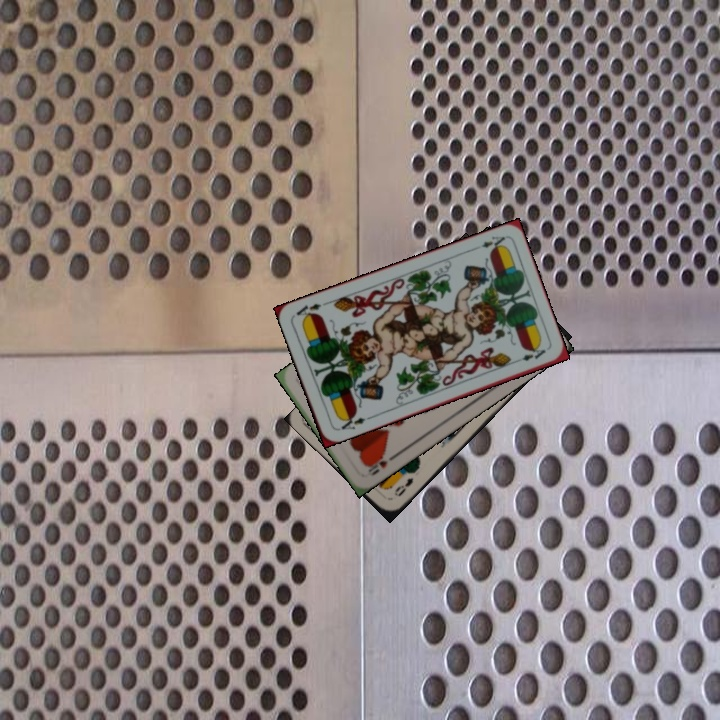EA: (469, 232, 508, 253), (334, 410, 368, 433)
EO: (390, 473, 416, 499)
HO: (362, 450, 398, 478)
